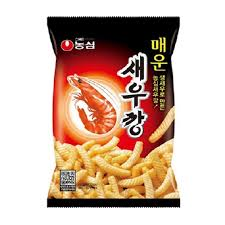snack1: (44, 13, 183, 213)
